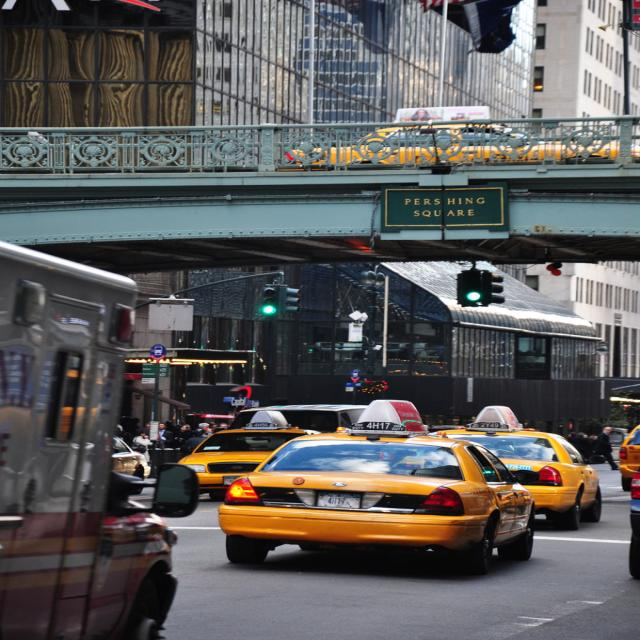car: (210, 395, 536, 560)
